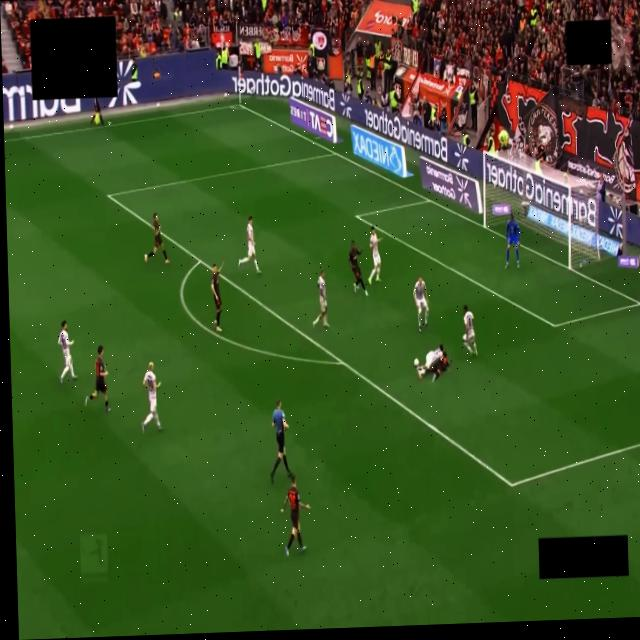ball: (413, 359, 418, 368)
player: (280, 476, 309, 556), (85, 346, 109, 412), (142, 363, 161, 432), (144, 213, 169, 264), (414, 344, 447, 381), (238, 216, 259, 273), (57, 321, 75, 383), (348, 241, 367, 296), (504, 213, 520, 269), (312, 271, 327, 327), (211, 261, 223, 331), (413, 277, 428, 332), (368, 226, 382, 284), (428, 344, 448, 381), (462, 305, 476, 356)
referee: (270, 400, 290, 483)
